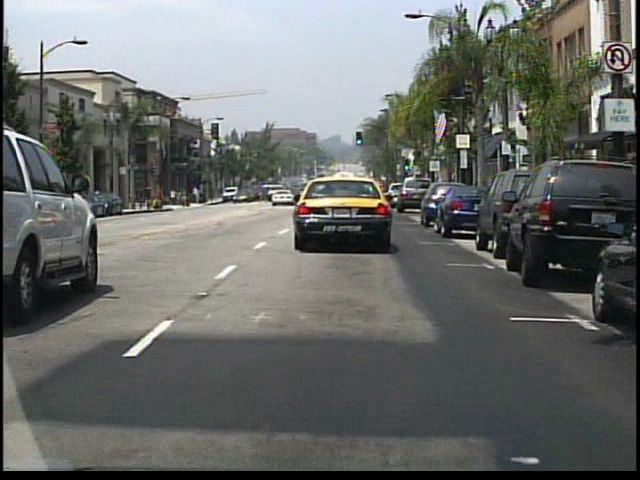person: (191, 189, 199, 209)
